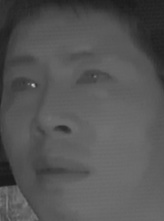eye: (74, 65, 116, 90), (7, 72, 41, 98)
mouth: (32, 156, 90, 189)
